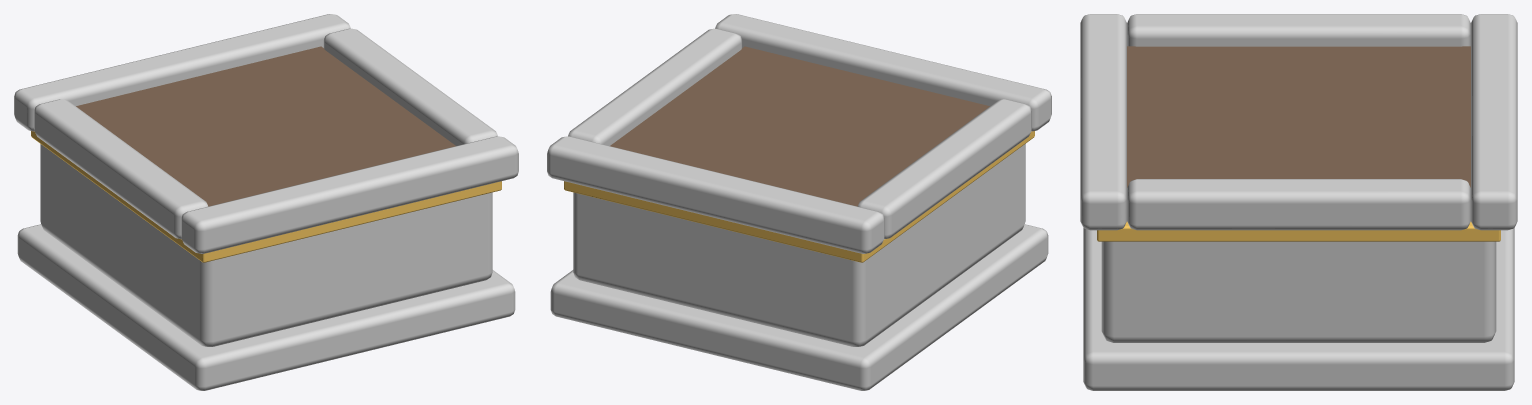
The model's file is Lobby_PROP_PlanterSquare.fbx.
The picture shows the model from 3 angles, left to right: view 1: azimuth 30°, elevation 25°; view 2: azimuth 150°, elevation 25°; view 3: azimuth 270°, elevation 25°; orthographic projection. The views are drawn at different scales.
Visible parts, largest first — view 1: Lobby_PROP_PlanterSquare__Marble, Lobby_PROP_PlanterSquare__Soil, Lobby_PROP_PlanterSquare__Gold; view 2: Lobby_PROP_PlanterSquare__Marble, Lobby_PROP_PlanterSquare__Soil, Lobby_PROP_PlanterSquare__Gold; view 3: Lobby_PROP_PlanterSquare__Marble, Lobby_PROP_PlanterSquare__Soil, Lobby_PROP_PlanterSquare__Gold.
Part boxes in pixels (left/top/right/bottom): Lobby_PROP_PlanterSquare__Marble: left=14, top=14, right=518, bottom=390; Lobby_PROP_PlanterSquare__Soil: left=76, top=46, right=455, bottom=206; Lobby_PROP_PlanterSquare__Gold: left=31, top=131, right=501, bottom=262; Lobby_PROP_PlanterSquare__Marble: left=547, top=14, right=1051, bottom=390; Lobby_PROP_PlanterSquare__Soil: left=610, top=46, right=989, bottom=206; Lobby_PROP_PlanterSquare__Gold: left=564, top=131, right=1034, bottom=262; Lobby_PROP_PlanterSquare__Marble: left=1080, top=14, right=1517, bottom=390; Lobby_PROP_PlanterSquare__Soil: left=1127, top=46, right=1470, bottom=187; Lobby_PROP_PlanterSquare__Gold: left=1097, top=221, right=1500, bottom=241.
Size of the model in its own units: 3.55 by 1.8 by 3.55.
